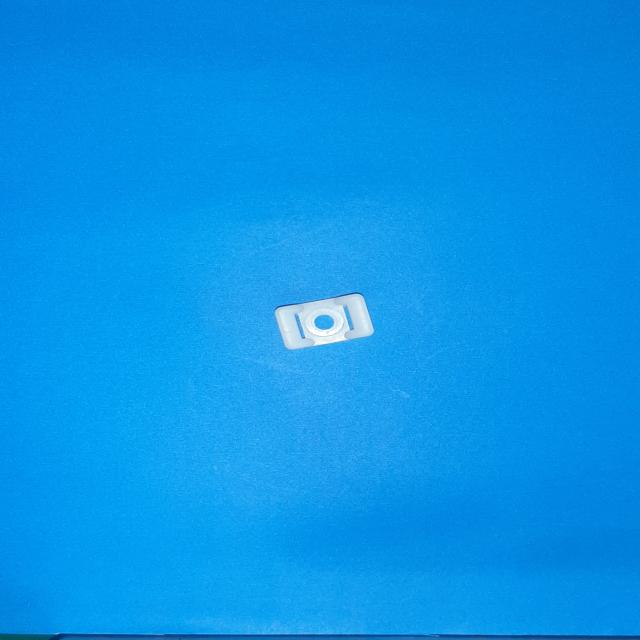true: (275, 294, 373, 350)
true_center: (314, 315, 334, 330)
